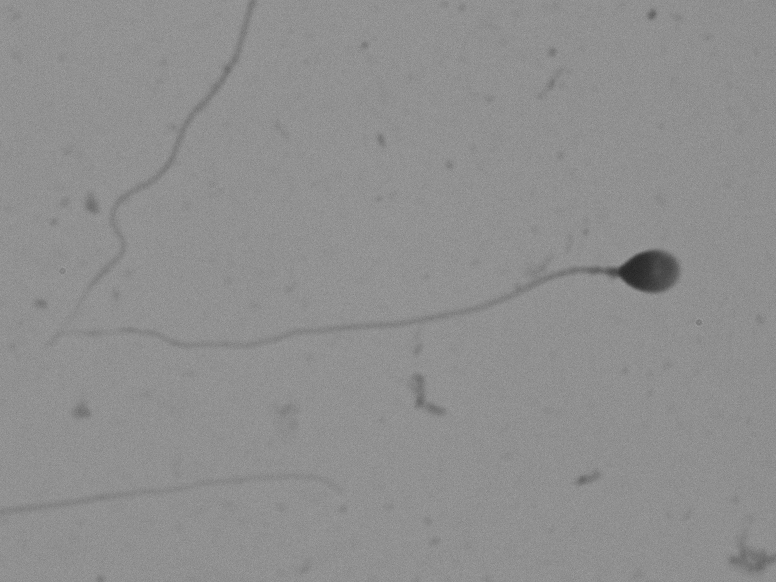Normal: (104, 165, 704, 404)
